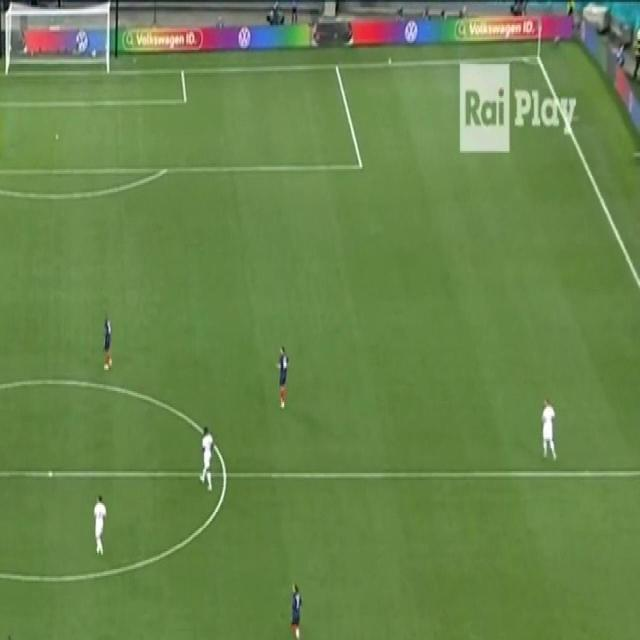player-white: (198, 422, 215, 493), (540, 397, 558, 463), (92, 491, 108, 559), (274, 344, 290, 410), (288, 581, 303, 640), (101, 311, 114, 373), (2, 631, 19, 640)
